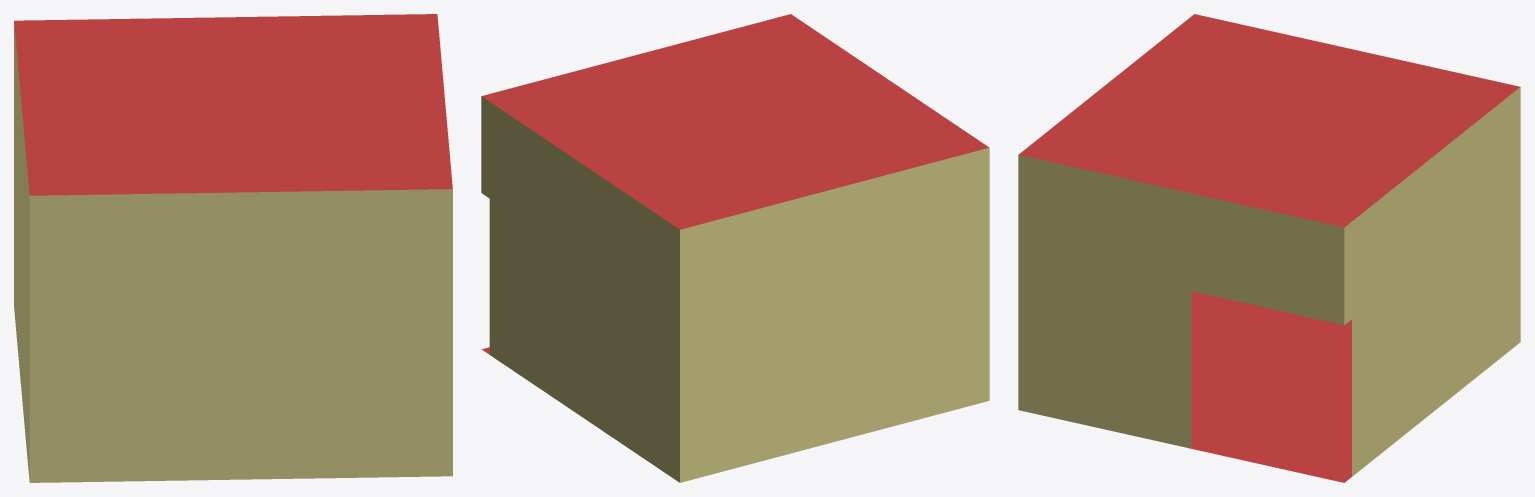
The picture shows the model from 3 angles, left to right: view 1: azimuth 30°, elevation 25°; view 2: azimuth 150°, elevation 25°; view 3: azimuth 270°, elevation 25°; orthographic projection. The views are drawn at different scales.
Parts seen in each view (by area): view 1: group_4, group_3; view 2: group_4, group_3; view 3: group_4, group_3, group_5.
Boxes of the visible parts, x1,y1,x2,y2 form: group_4: (14, 21, 452, 482); group_3: (14, 14, 452, 195); group_4: (481, 96, 989, 482); group_3: (481, 14, 988, 229); group_4: (1018, 87, 1520, 476); group_3: (1019, 14, 1520, 227); group_5: (1191, 291, 1351, 482).
Size of the model in its own units: 16.54 by 16.44 by 9.23.
